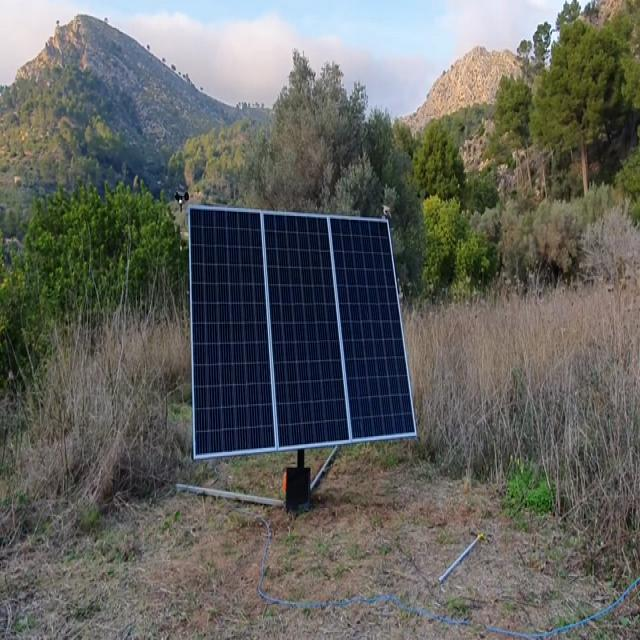Normal Solar Panel: (190, 207, 417, 460)
